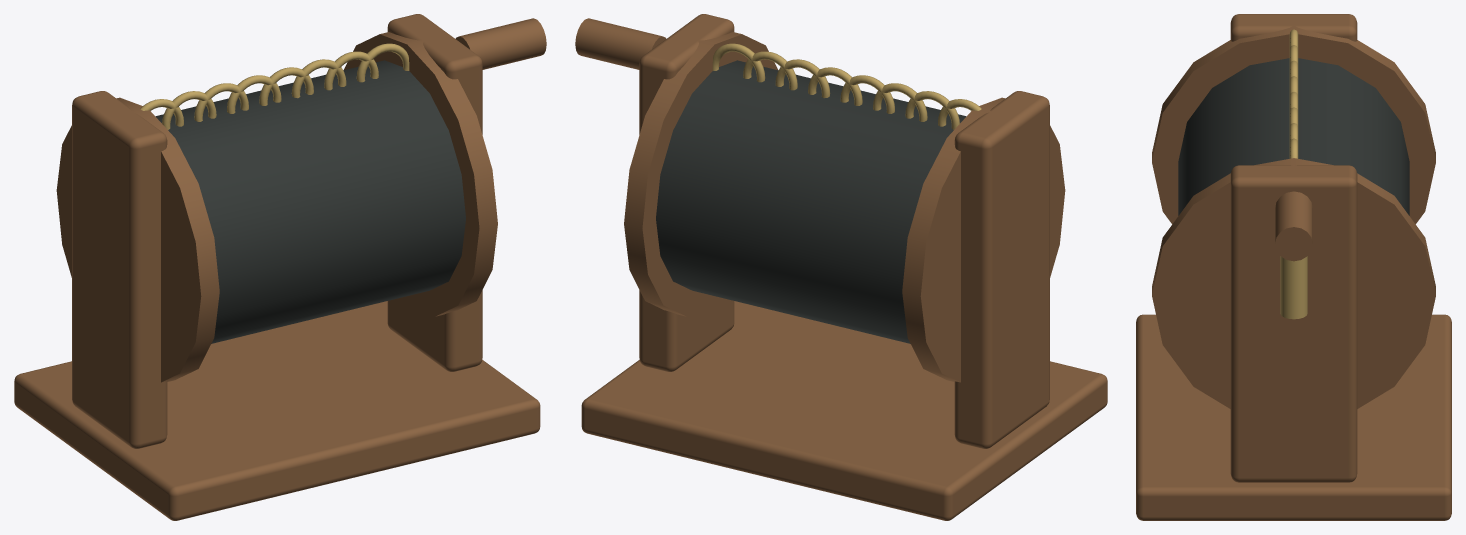
File: fantasy-cartographers-map-printing-guild-survey-chain--2c4ffc9a__32237.glb
3 views of the same model, side by side, from view 1: azimuth 30°, elevation 25°; view 2: azimuth 150°, elevation 25°; view 3: azimuth 270°, elevation 25° (orthographic).
Visible parts, largest first — view 1: survey-chain-reel; view 2: survey-chain-reel; view 3: survey-chain-reel.
Boxes of the visible parts, bbox=[...] form: survey-chain-reel: bbox=[14, 14, 546, 520]; survey-chain-reel: bbox=[575, 14, 1107, 520]; survey-chain-reel: bbox=[1136, 14, 1451, 520].
Bounding box in the file's own units: 0.48 × 0.361 × 0.3.
